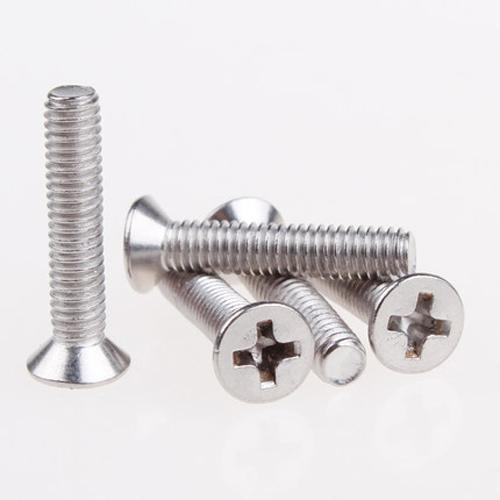Tornillo: (22, 84, 131, 386), (121, 193, 418, 298), (133, 256, 324, 406), (331, 264, 470, 375), (260, 278, 372, 386)
